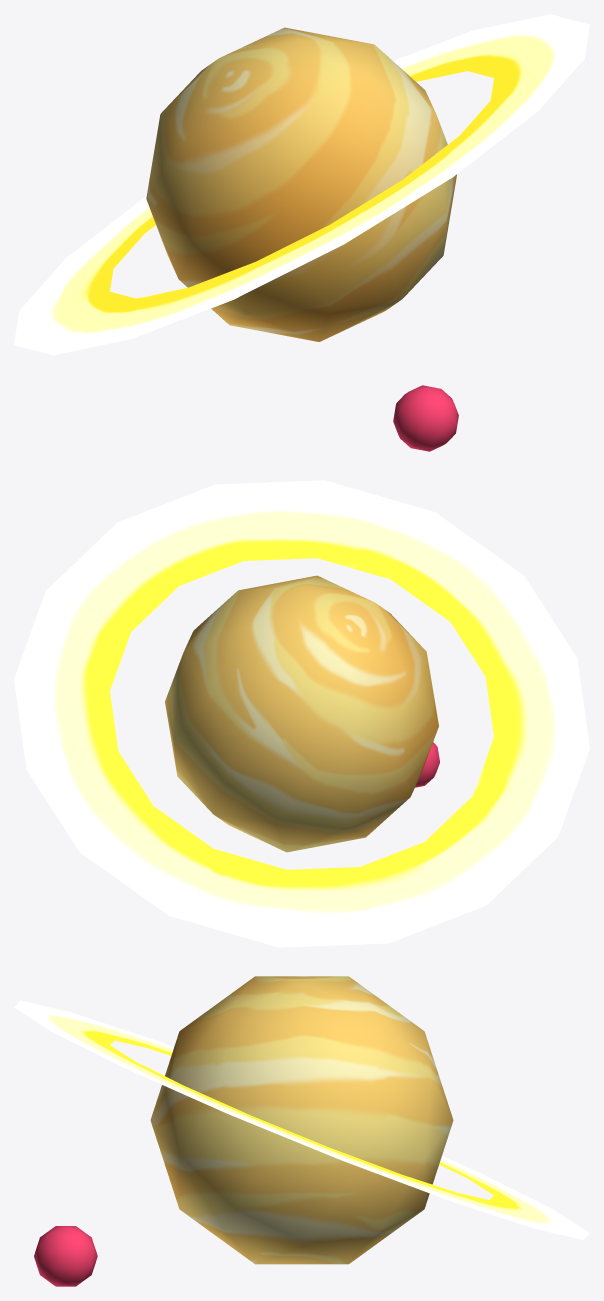
Rendered from yellowring.fbx.
3 renders of one model, top to bottom at view 1: azimuth 30°, elevation 25°; view 2: azimuth 150°, elevation 25°; view 3: azimuth 270°, elevation 25°, orthographic. The views are drawn at different scales.
Visible parts, largest first — view 1: Icosphere.frozen; view 2: Icosphere.frozen; view 3: Icosphere.frozen.
Boxes of the visible parts, x1,y1,x2,y2 form: Icosphere.frozen: [14, 14, 589, 451]; Icosphere.frozen: [14, 480, 589, 947]; Icosphere.frozen: [14, 976, 589, 1286].
Size of the model in its own units: 791 by 448 by 768.
1 material, 1 textured.
